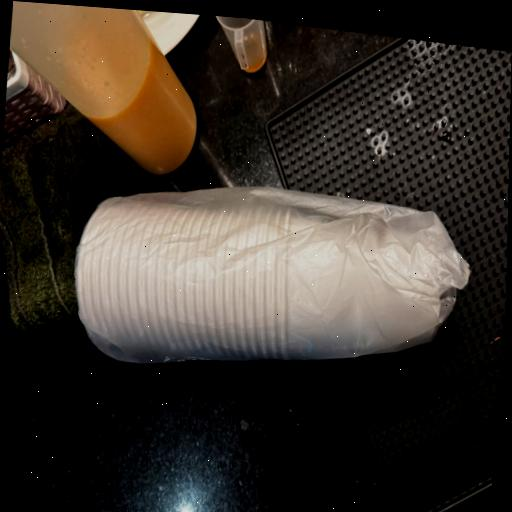Ly_giay: (76, 187, 469, 363)
